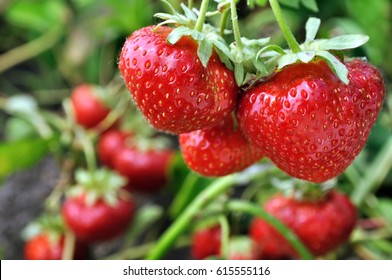ripe: (236, 39, 384, 182), (117, 24, 255, 134), (175, 68, 275, 176), (248, 181, 365, 259), (60, 171, 136, 242), (112, 137, 183, 190), (69, 81, 127, 134), (95, 122, 137, 170), (22, 229, 77, 263), (191, 220, 236, 261), (220, 234, 263, 261)
